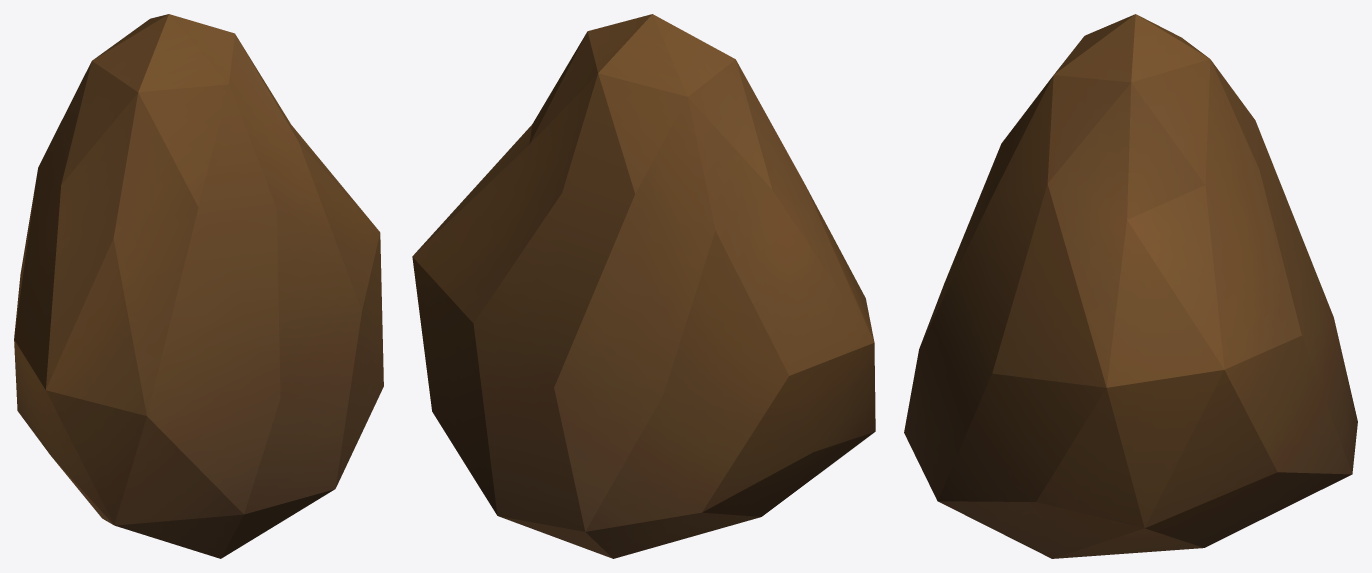
File: rock-3.fbx
3 renders of one model, left to right at view 1: azimuth 30°, elevation 25°; view 2: azimuth 150°, elevation 25°; view 3: azimuth 270°, elevation 25°, orthographic. The views are drawn at different scales.
Visible parts, largest first — view 1: Icosphere.003; view 2: Icosphere.003; view 3: Icosphere.003.
Part boxes in pixels (x1,y1,x2,y2): Icosphere.003: (14,14,383,558); Icosphere.003: (412,14,875,558); Icosphere.003: (904,14,1357,558).
Bounding box in the file's own units: 1197 × 1545 × 1218.
